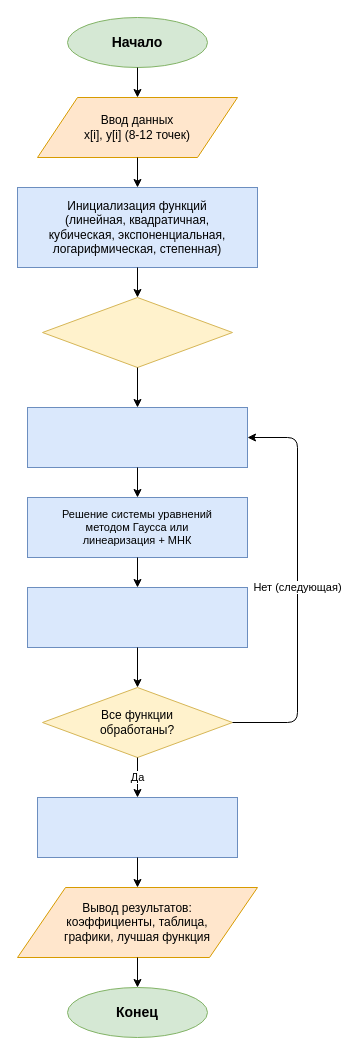
Some shapes in this 359 by 1055 pixel diagram are drawn without their labels. Each missing label, with the centre of its shape:
"Выбор наилучшей функции (min δ)" belongs at (137,827).
"Вычисление S, δ, R² φ(x_i), ε_i" belongs at (137,617).
"Вычисление сумм для МНК (Σx, Σxx, Σy, Σxy, ...)" belongs at (137,437).
"Для каждой функции" belongs at (137,332).
